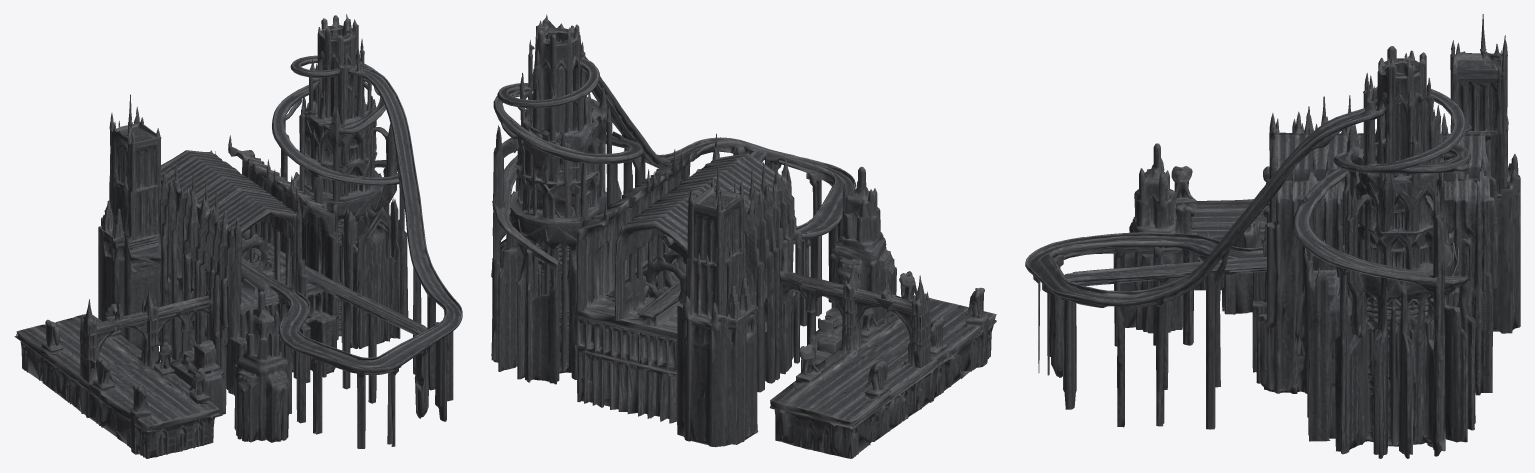
File: Meshy_AI_Necros_Spire_Ascendan_1029021919_texture.glb
3 renders of one model, left to right at view 1: azimuth 30°, elevation 25°; view 2: azimuth 150°, elevation 25°; view 3: azimuth 270°, elevation 25°, orthographic. The views are drawn at different scales.
Size of the model in its own units: 1.9 by 1.56 by 1.84.
1 material, 1 textured.
